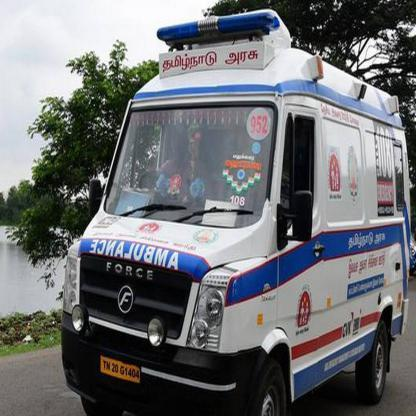Ambulance: (87, 238, 182, 274), (374, 121, 395, 218)
